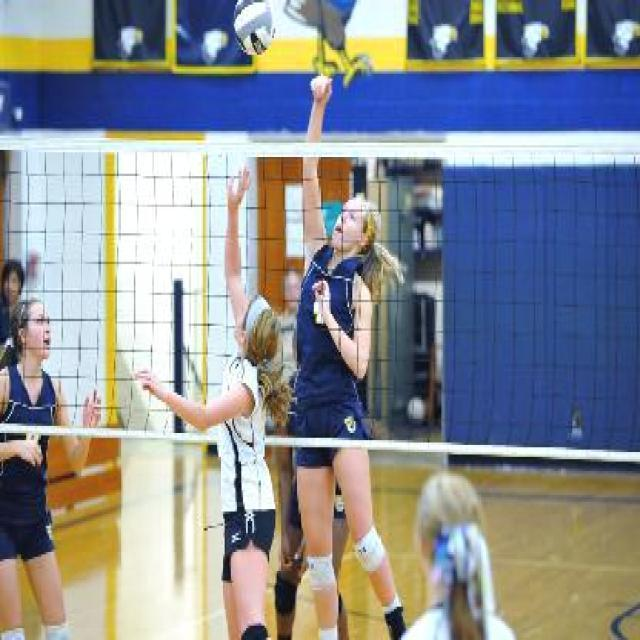volleyball: (233, 0, 276, 55)
